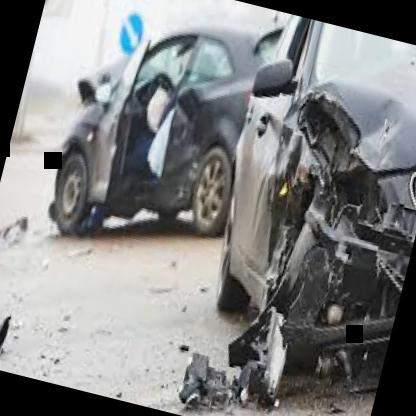accident: (7, 0, 416, 413)
